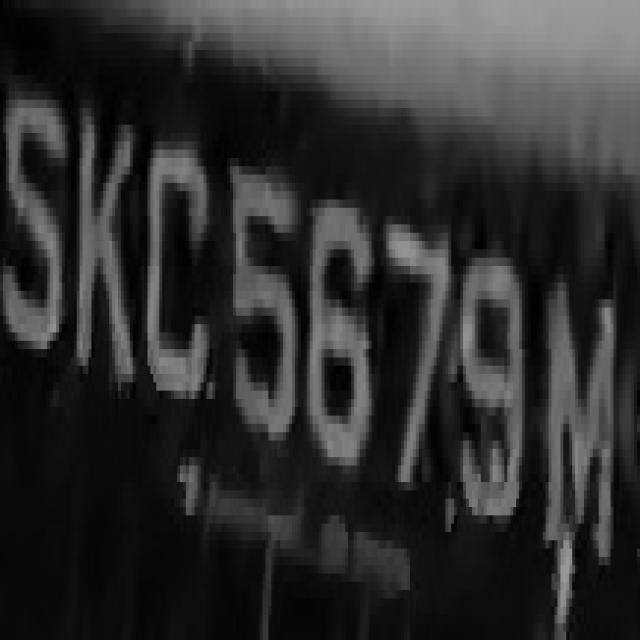5: (221, 150, 301, 466)
6: (295, 158, 374, 482)
7: (372, 174, 454, 524)
9: (454, 208, 525, 573)
C: (139, 108, 212, 432)
K: (65, 58, 139, 424)
M: (540, 250, 619, 598)
S: (6, 41, 65, 382)
